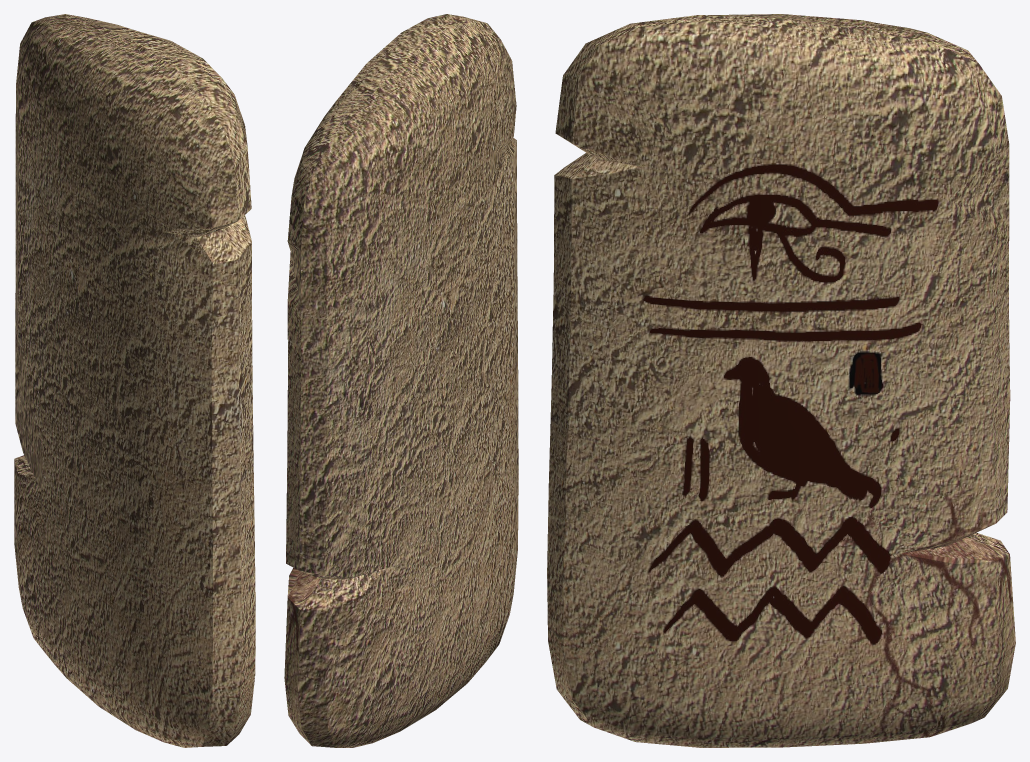
Rendered from jeroglifico1.fbx.
The picture shows the model from 3 angles, left to right: view 1: azimuth 30°, elevation 25°; view 2: azimuth 150°, elevation 25°; view 3: azimuth 270°, elevation 25°; orthographic projection. The views are drawn at different scales.
Parts seen in each view (by area): view 1: Jeroglifico 1; view 2: Jeroglifico 1; view 3: Jeroglifico 1.
Boxes of the visible parts, x1,y1,x2,y2 form: Jeroglifico 1: (14,14,255,747); Jeroglifico 1: (284,14,518,747); Jeroglifico 1: (547,14,1015,747).
Size of the model in its own units: 53.48 by 316 by 182.
